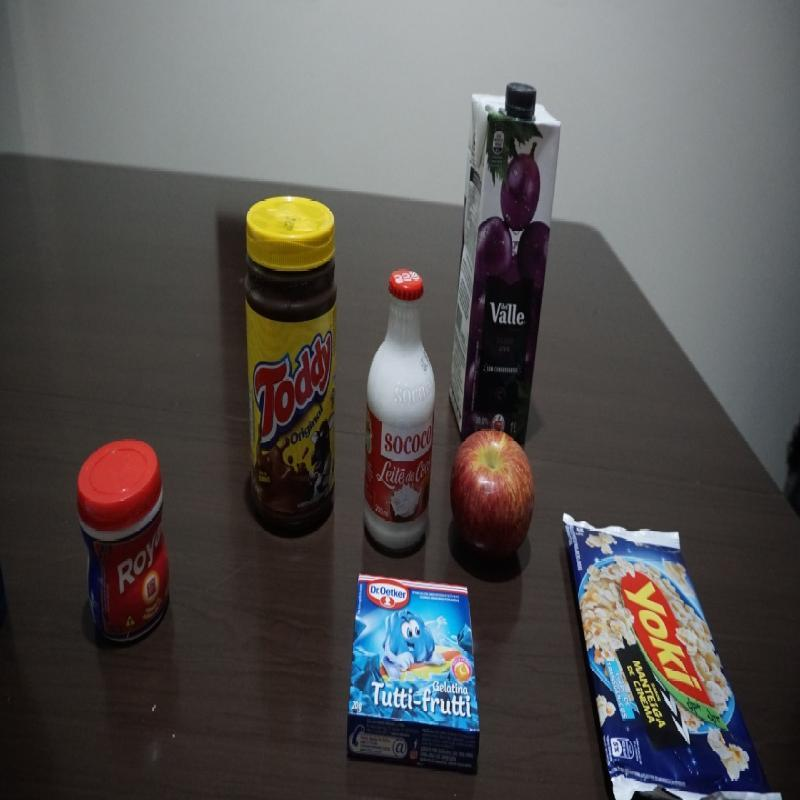Apple: (449, 429, 536, 569)
Chocolate Powder: (241, 195, 338, 540)
Coconut Milk: (361, 266, 437, 560)
Gelatine: (345, 574, 482, 775)
Popcorn: (561, 509, 781, 796)
Yeast: (74, 438, 174, 652)
